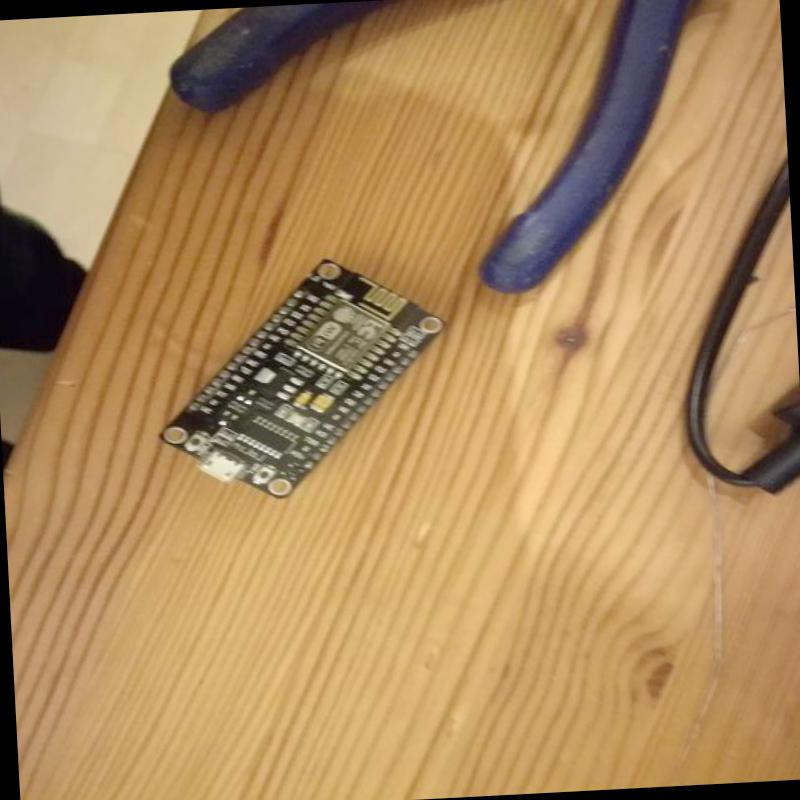ESP8266: (148, 245, 458, 514)
